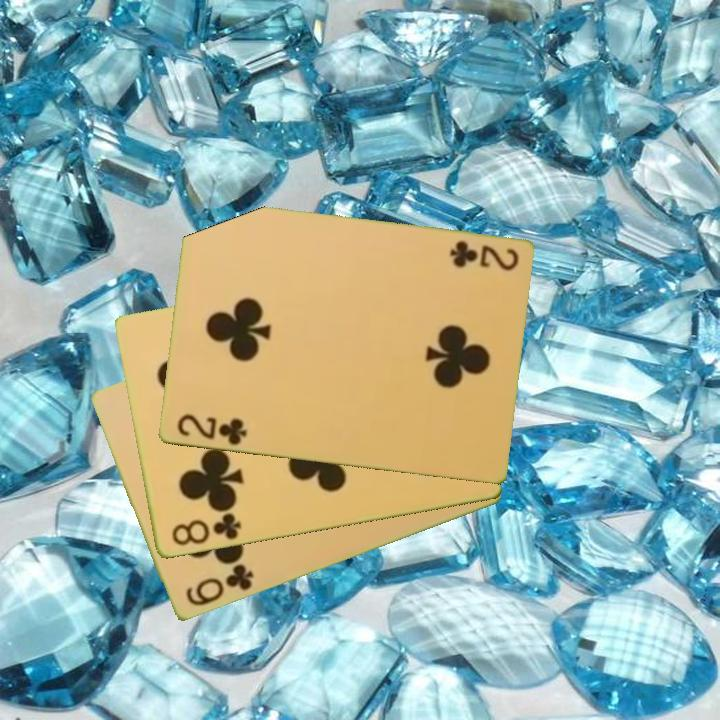2c: (173, 410, 250, 449), (445, 237, 521, 274)
6c: (182, 560, 257, 610)
8c: (167, 509, 244, 550)
